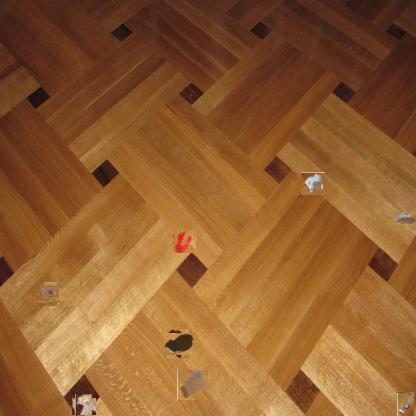dirty: (177, 370, 208, 400), (301, 172, 325, 195), (73, 396, 94, 416), (397, 392, 414, 416), (40, 284, 60, 304), (394, 212, 416, 224)
liquid: (165, 331, 191, 357), (173, 229, 197, 253)
